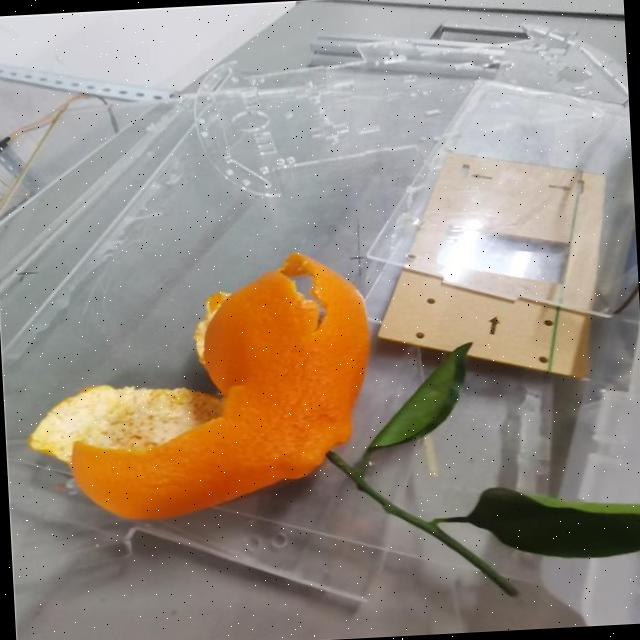orange-peel: (58, 247, 380, 526)
